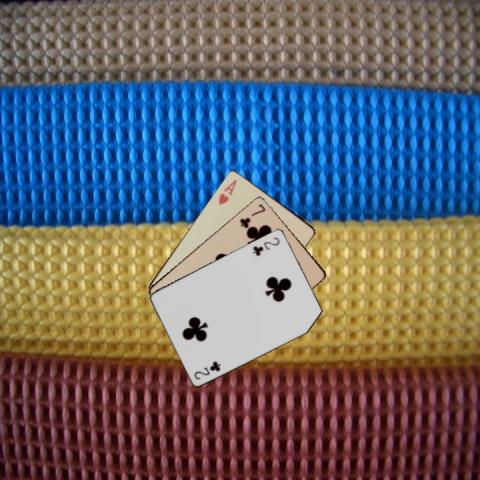2c: (250, 234, 281, 258), (191, 358, 222, 381)
7c: (236, 200, 266, 228)
Ah: (215, 176, 238, 206)
